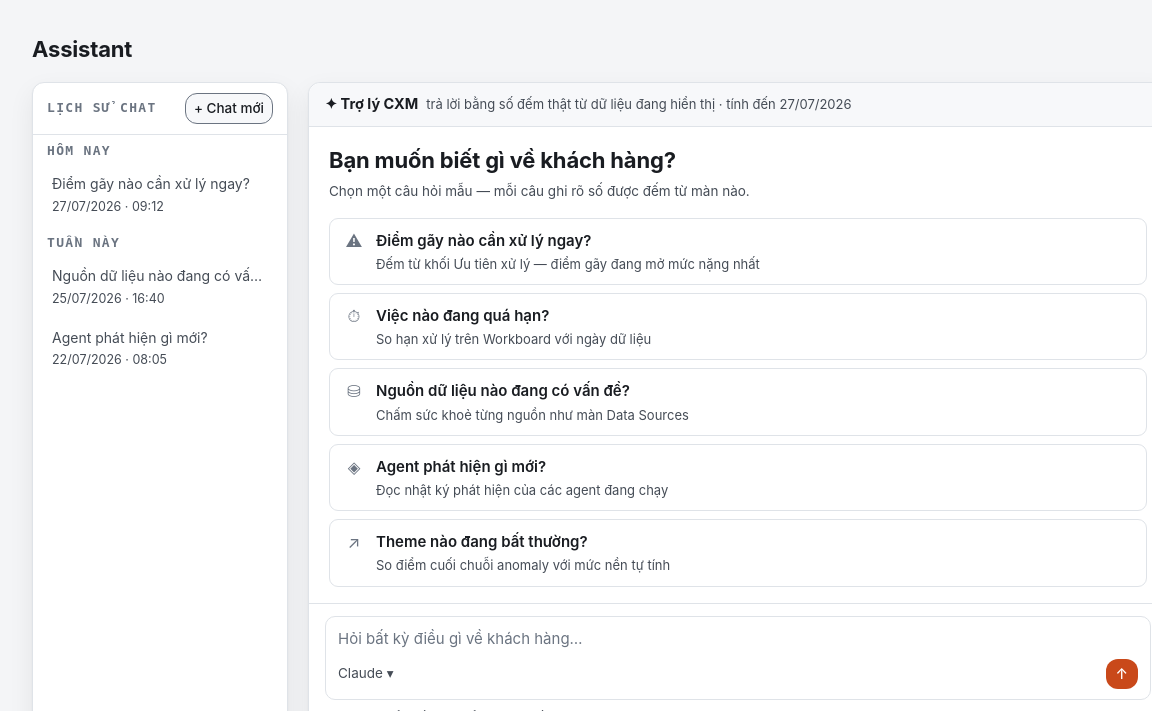
hỏi tự do › gõ câu bất kỳ → trả lời trung thực về phạm vi demo, không bịa câu trả lời
Type "vì sao trời xanh?" into the field with test id "assistant-input" at (738, 638), box x1=338 y1=626 x2=1138 y2=650
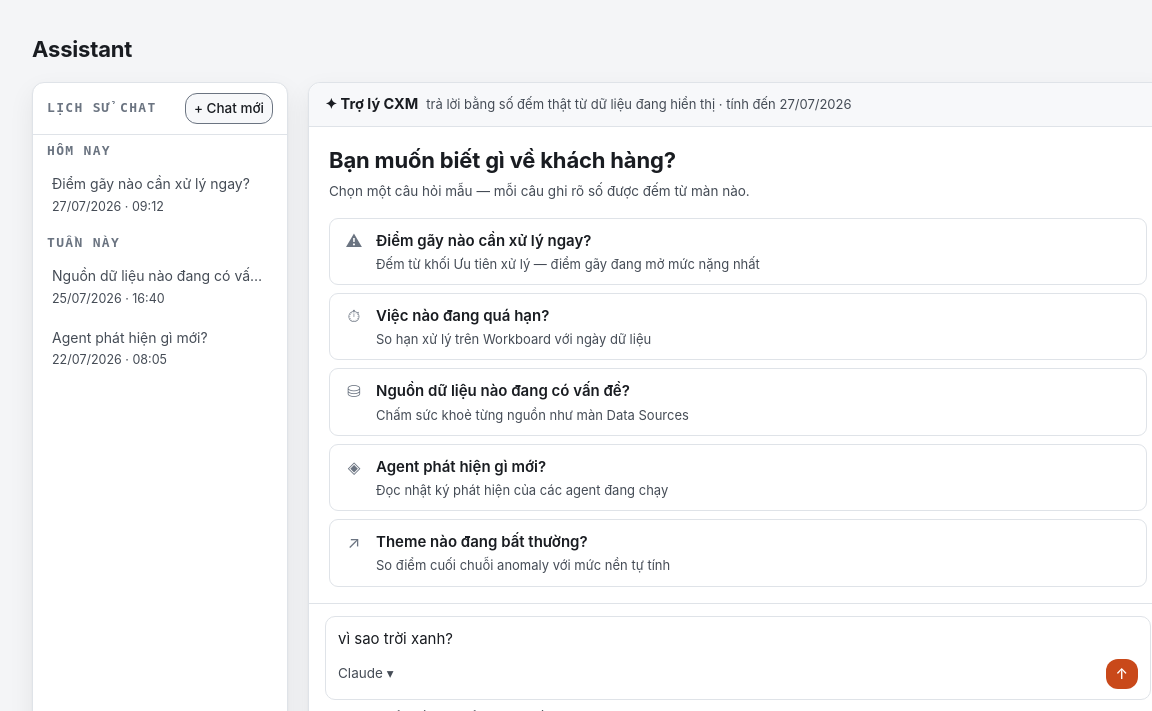
Click the button with test id "assistant-send" at (1122, 674), box x1=1106 y1=658 x2=1138 y2=689
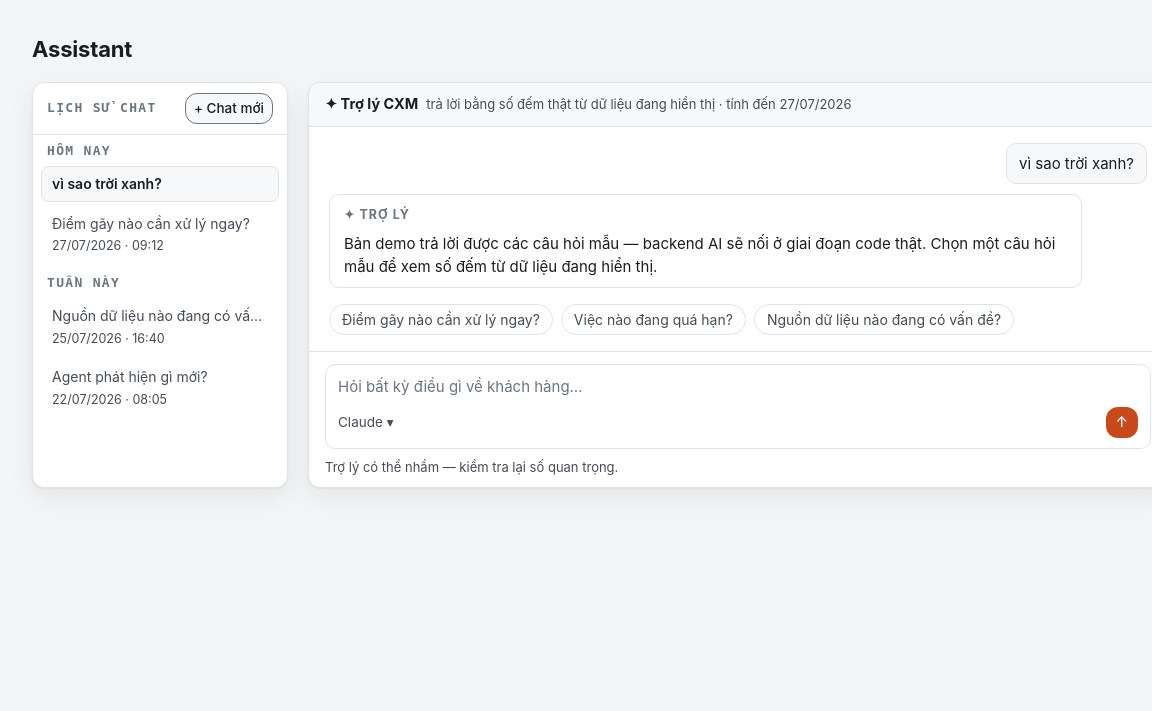
expect the 1st text "vì sao trời xanh?" is shown: met, box x1=1006 y1=143 x2=1147 y2=184
expect the text "câu hỏi mẫu" is shown: met, box x1=344 y1=234 x2=1056 y2=276
